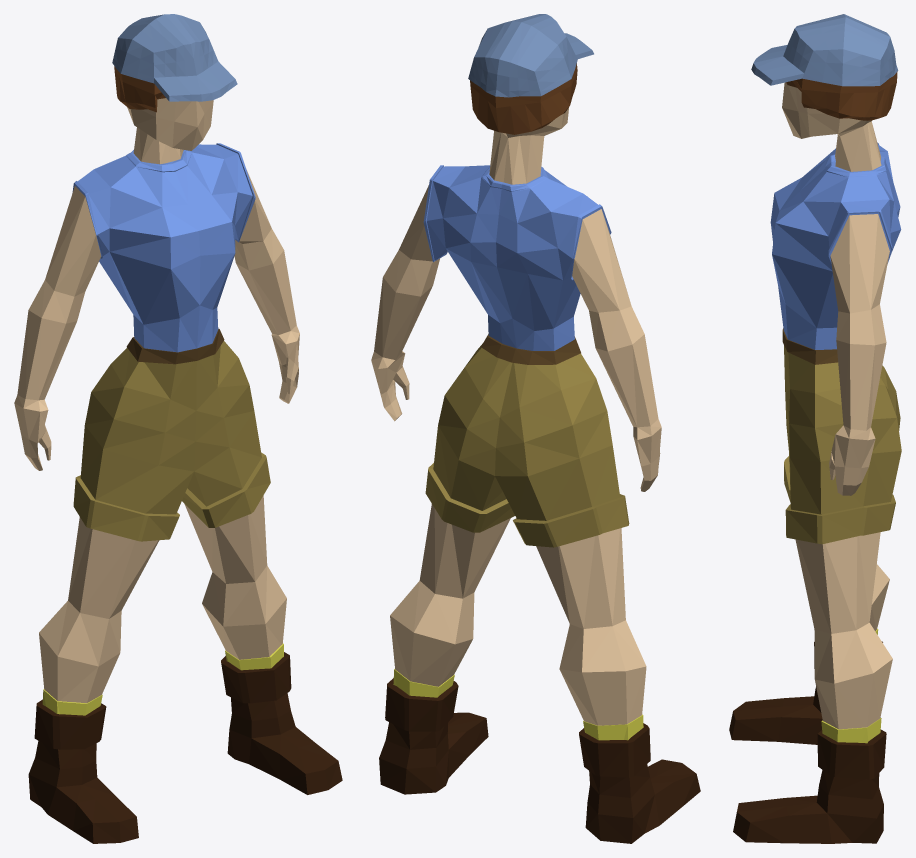
The model's file is chara still 3.fbx.
3 renders of one model, left to right at view 1: azimuth 30°, elevation 25°; view 2: azimuth 150°, elevation 25°; view 3: azimuth 270°, elevation 25°, orthographic. The views are drawn at different scales.
Visible parts, largest first — view 1: socks-material; view 2: socks-material; view 3: socks-material.
Part boxes in pixels (left/top/right/bottom): socks-material: left=14, top=14, right=342, bottom=843; socks-material: left=371, top=14, right=700, bottom=843; socks-material: left=729, top=14, right=901, bottom=843.
Size of the model in its own units: 107 by 282 by 57.54.
